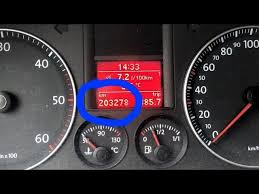Digital_Meter: (92, 90, 160, 111)
